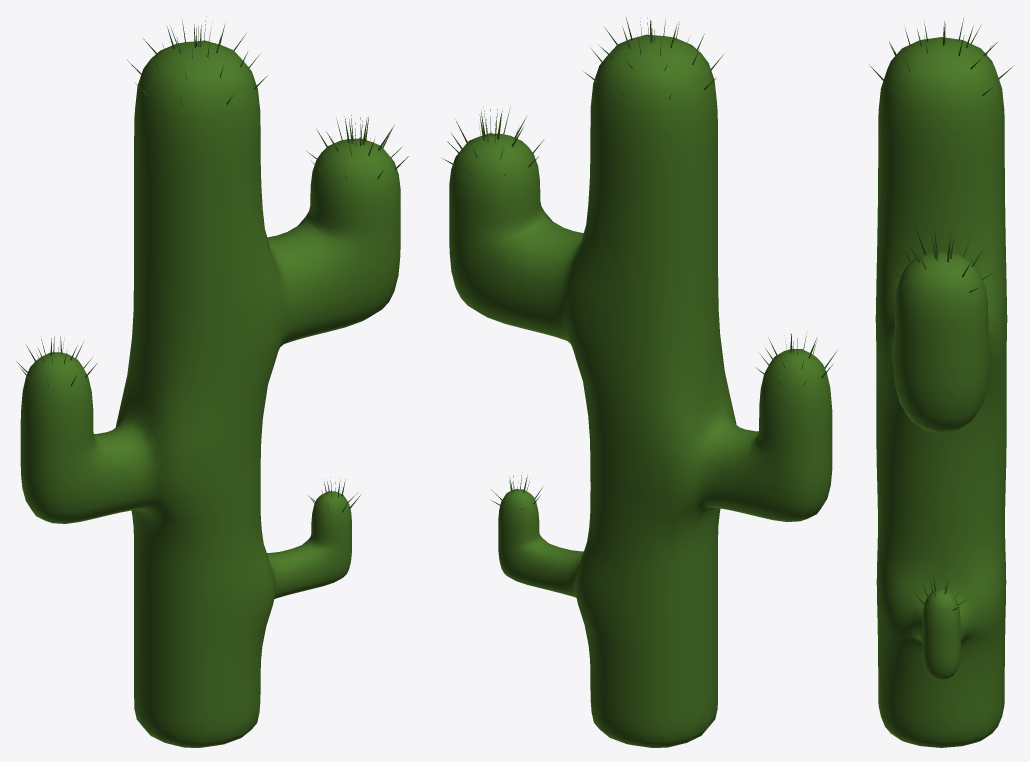
The model's file is Cactus.obj.
3 views of the same model, side by side, from view 1: azimuth 30°, elevation 25°; view 2: azimuth 150°, elevation 25°; view 3: azimuth 270°, elevation 25° (orthographic).
Parts seen in each view (by area): view 1: Cube; view 2: Cube; view 3: Cube.
Boxes of the visible parts, box(x1,y1,x2,y2) form: Cube: box(16, 16, 408, 747); Cube: box(442, 17, 837, 747); Cube: box(869, 18, 1014, 747).
Bounding box in the file's own units: 6.5 × 11.43 × 2.15.
